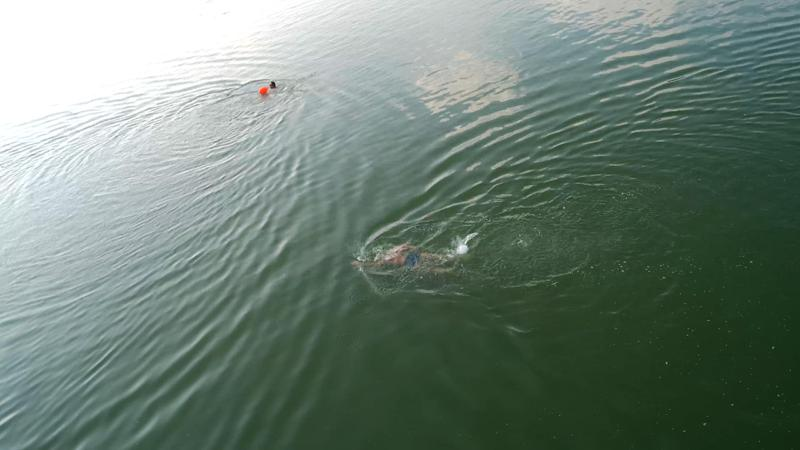swimmers: (349, 244, 458, 274)
